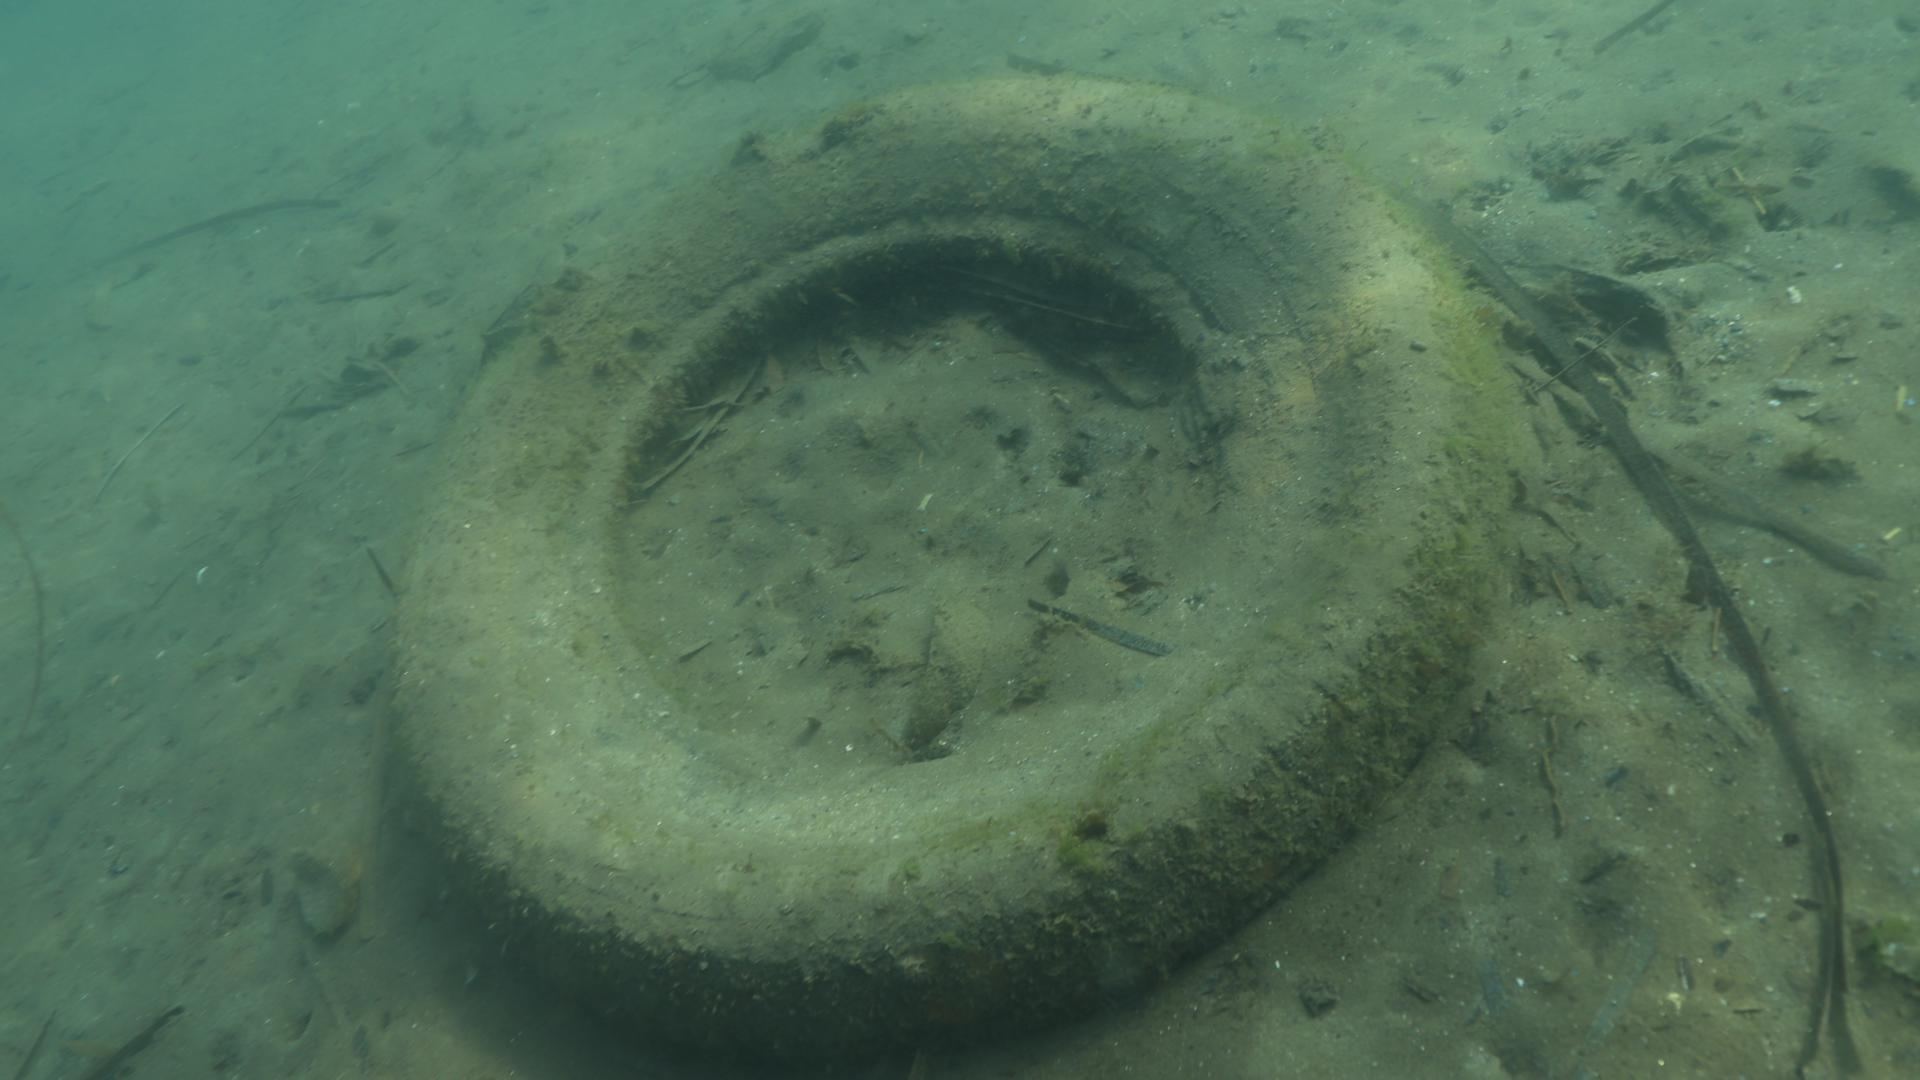tire: (392, 78, 1513, 1080)
